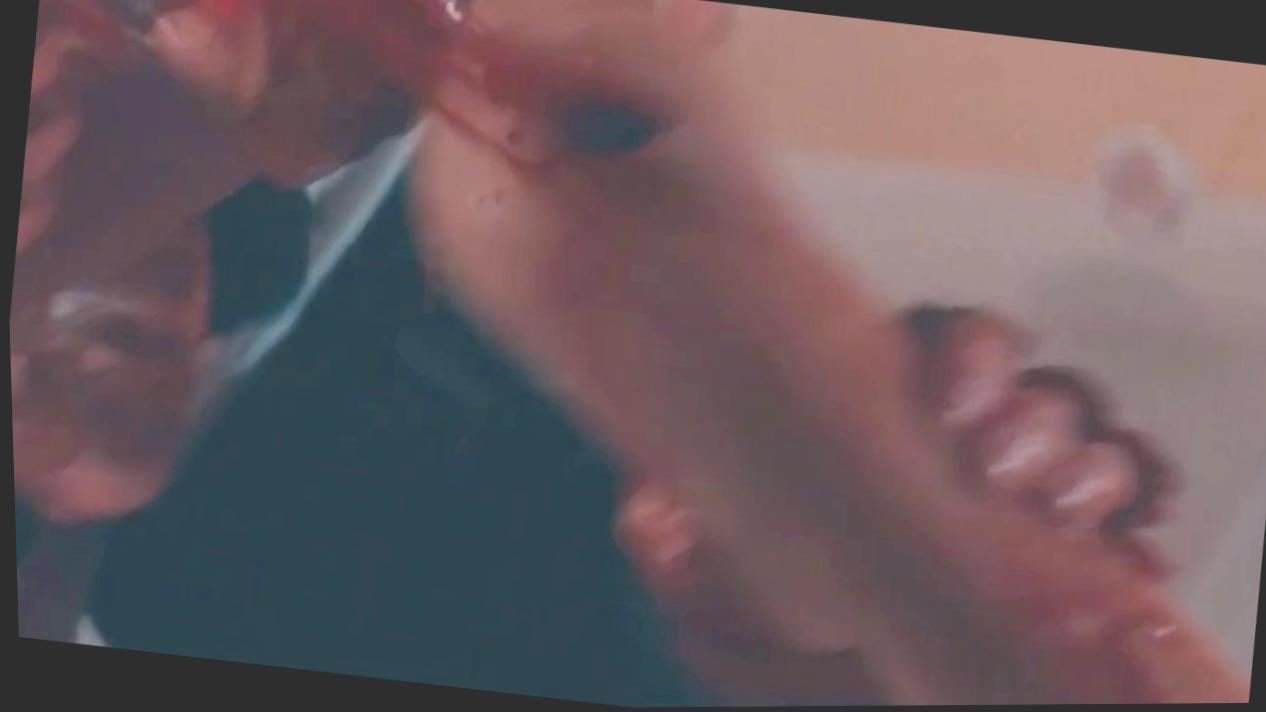Fire: (7, 0, 1246, 708)
